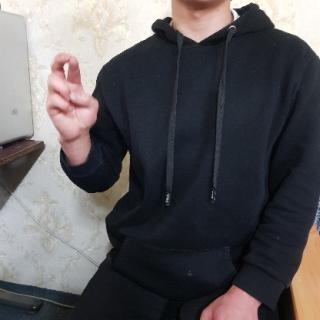ZAY: (42, 48, 102, 151)
